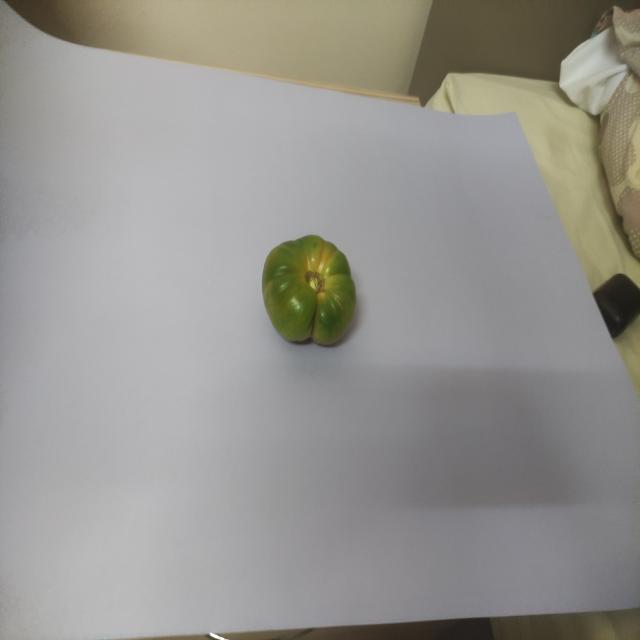yesil: (244, 218, 375, 374)
